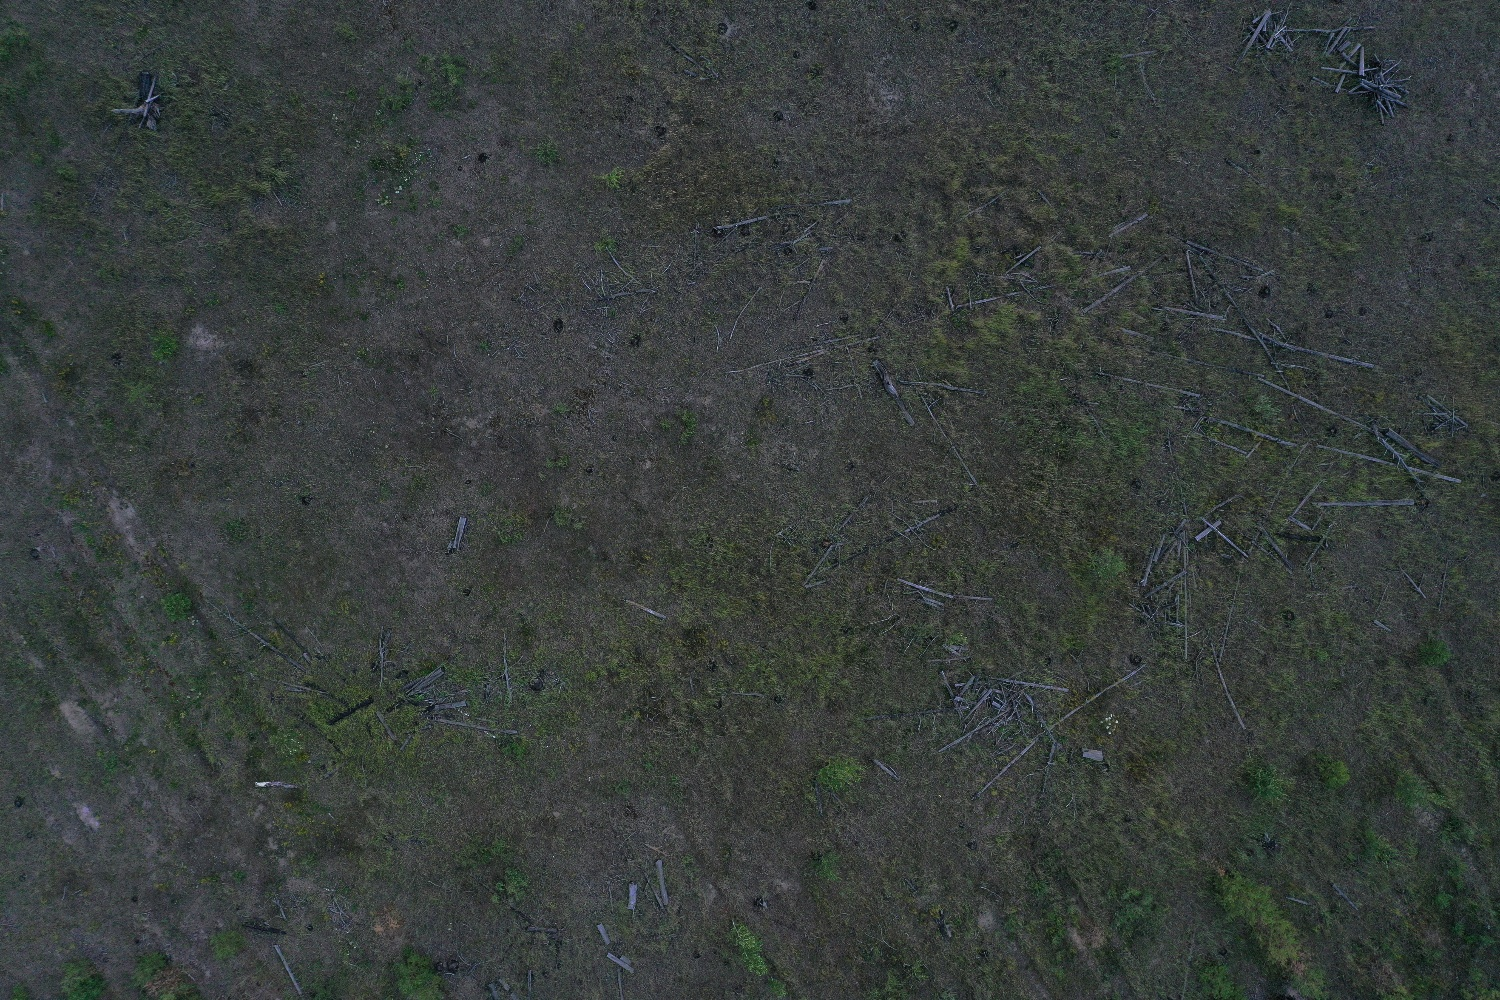branches: (937, 667, 1068, 757), (1312, 27, 1413, 125), (1231, 1, 1312, 69), (1419, 394, 1469, 441)
